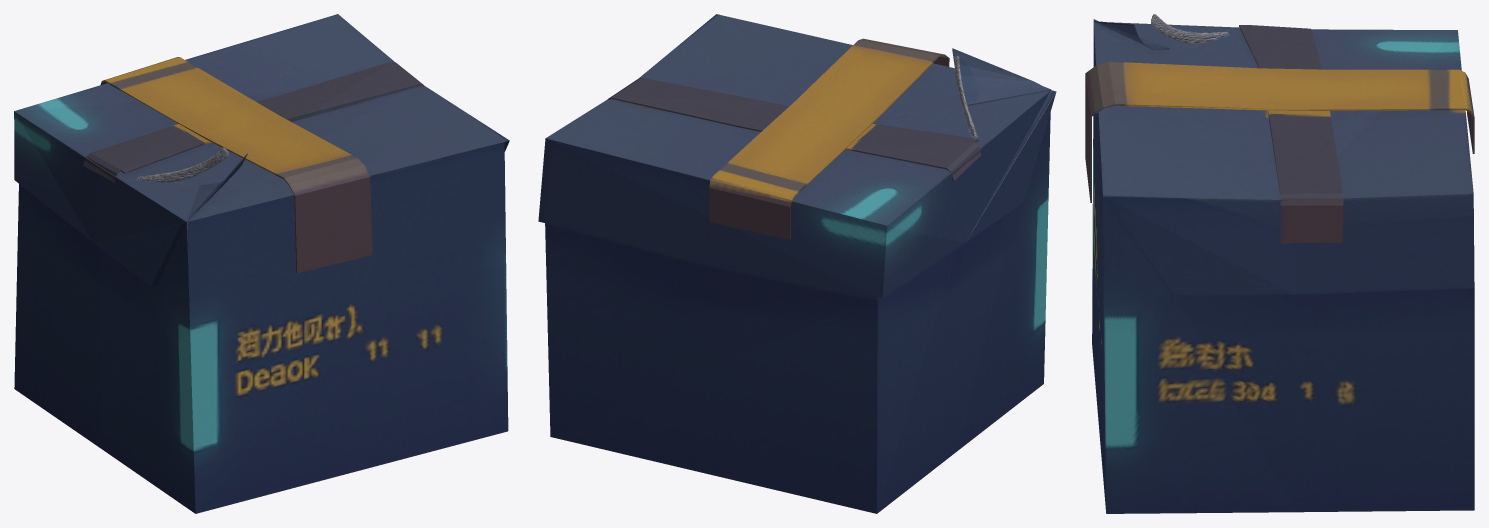
Rendered from special-delivery-package.glb.
The picture shows the model from 3 angles, left to right: view 1: azimuth 30°, elevation 25°; view 2: azimuth 150°, elevation 25°; view 3: azimuth 270°, elevation 25°; orthographic projection. The views are drawn at different scales.
Parts seen in each view (by area): view 1: tripo_node_56193c03-819b-4d17-9d53-7f7e2357ead8; view 2: tripo_node_56193c03-819b-4d17-9d53-7f7e2357ead8; view 3: tripo_node_56193c03-819b-4d17-9d53-7f7e2357ead8.
Part boxes in pixels (<box>): tripo_node_56193c03-819b-4d17-9d53-7f7e2357ead8: <box>14,14,509,513</box>; tripo_node_56193c03-819b-4d17-9d53-7f7e2357ead8: <box>538,14,1056,513</box>; tripo_node_56193c03-819b-4d17-9d53-7f7e2357ead8: <box>1085,14,1474,513</box>.
Size of the model in its own units: 0.998 by 0.9355 by 0.916.
1 material, 1 textured.
